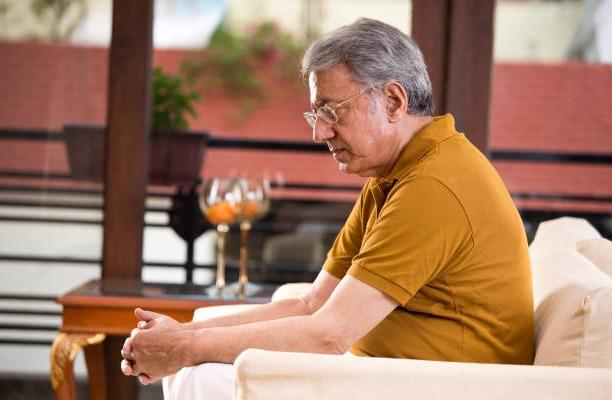Human: (124, 14, 531, 400)
